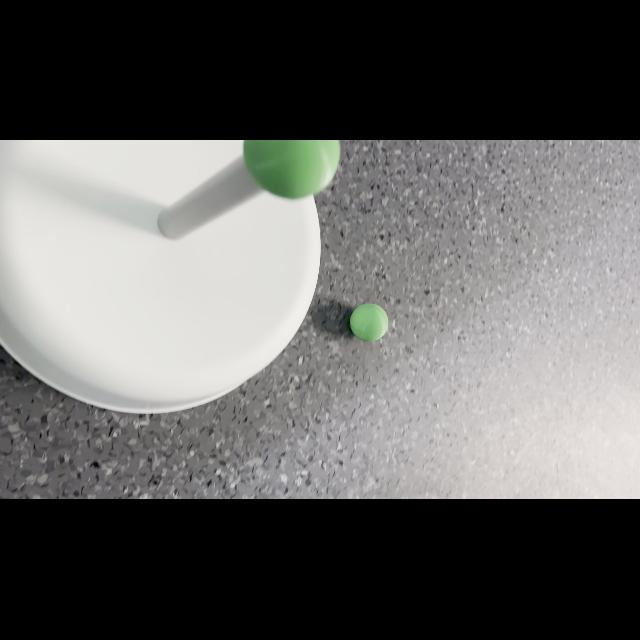objects: (237, 140, 347, 202), (346, 299, 394, 345)
